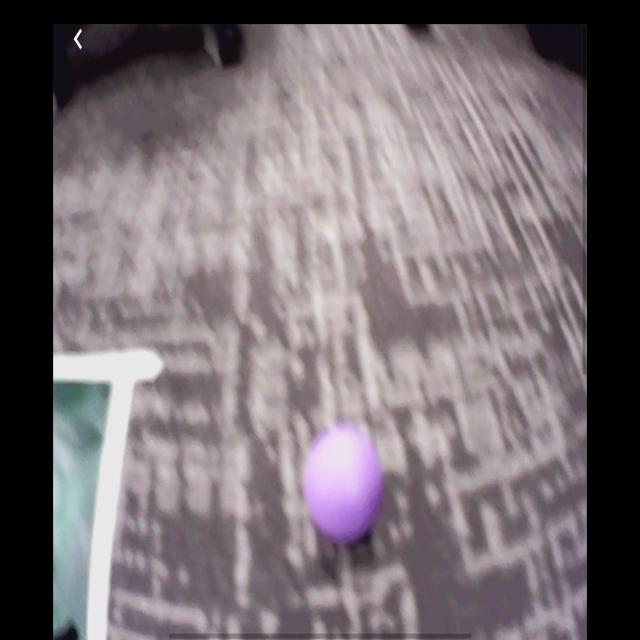ball: (302, 420, 385, 549)
